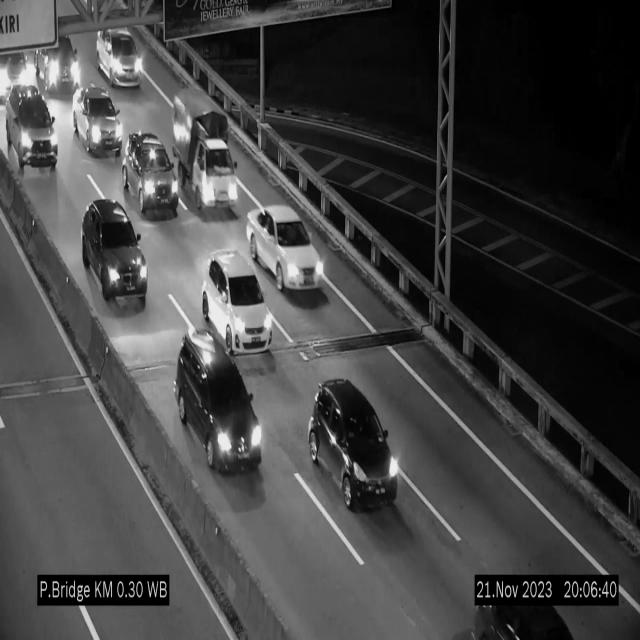Car: (309, 380, 403, 519), (175, 334, 263, 476), (79, 194, 151, 311), (456, 574, 566, 640), (203, 251, 273, 353), (246, 204, 322, 292), (0, 78, 62, 174), (120, 125, 180, 224), (72, 86, 122, 156), (36, 26, 84, 96), (96, 28, 143, 88), (0, 36, 38, 100)
Truck: (172, 84, 240, 211)
